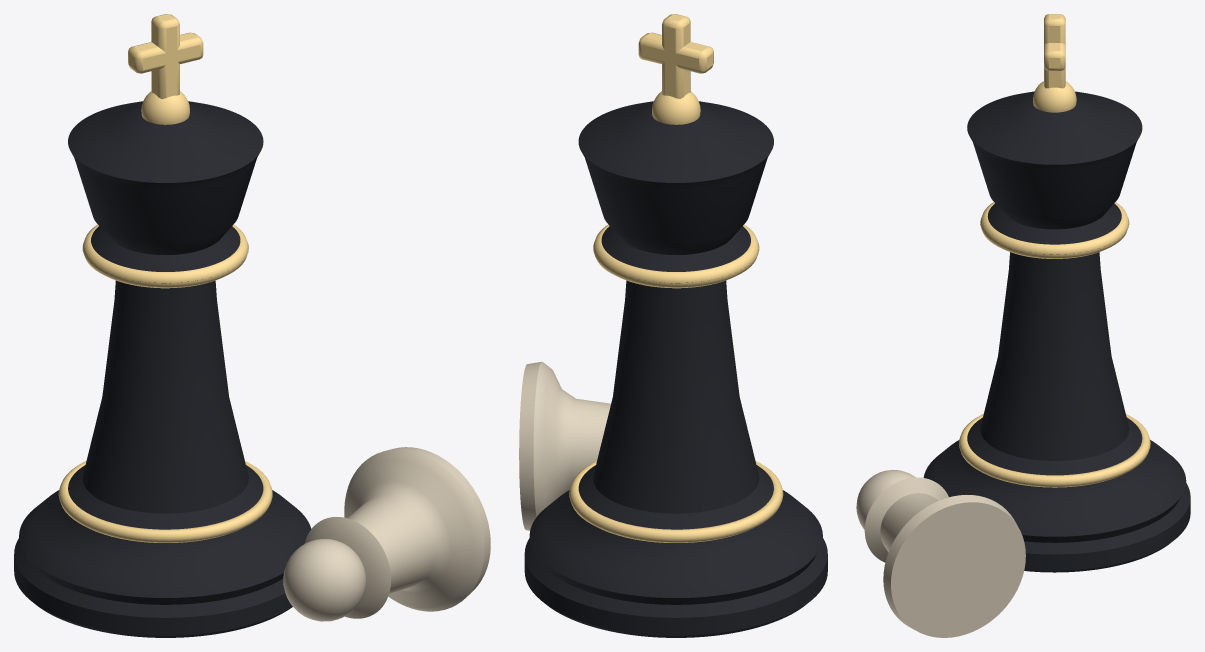
File: king.glb
3 views of the same model, side by side, from view 1: azimuth 30°, elevation 25°; view 2: azimuth 150°, elevation 25°; view 3: azimuth 270°, elevation 25° (orthographic). The views are drawn at different scales.
Parts seen in each view (by area): view 1: king, pawn, pawnhead, baser, collar, cross_v, cross_h, orb; view 2: king, pawn, baser, collar, cross_v, cross_h, orb; view 3: king, pawn, baser, collar, pawnhead, orb, cross_v, cross_h.
Part boxes in pixels (bbox=[...]): king: bbox=[14, 101, 311, 637]; pawn: bbox=[304, 447, 490, 618]; pawnhead: bbox=[283, 539, 366, 621]; baser: bbox=[58, 461, 272, 542]; collar: bbox=[82, 224, 248, 288]; cross_v: bbox=[151, 14, 179, 98]; cross_h: bbox=[128, 32, 203, 73]; orb: bbox=[141, 91, 189, 124]; king: bbox=[524, 101, 827, 637]; pawn: bbox=[519, 361, 610, 530]; baser: bbox=[569, 461, 783, 542]; collar: bbox=[593, 224, 759, 288]; cross_v: bbox=[662, 14, 690, 98]; cross_h: bbox=[638, 32, 713, 73]; orb: bbox=[652, 91, 700, 124]; king: bbox=[923, 91, 1190, 572]; pawn: bbox=[864, 477, 1025, 637]; baser: bbox=[959, 414, 1150, 487]; collar: bbox=[980, 202, 1129, 258]; pawnhead: bbox=[856, 469, 915, 529]; orb: bbox=[1033, 81, 1076, 112]; cross_v: bbox=[1044, 14, 1065, 88]; cross_h: bbox=[1044, 43, 1065, 70].
Size of the model in its own units: 0.862 by 1.34 by 0.7628.
